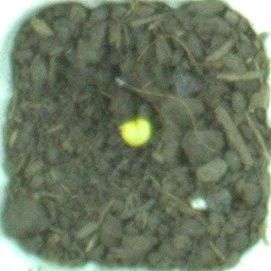pepper seed: (40, 45, 194, 193)
